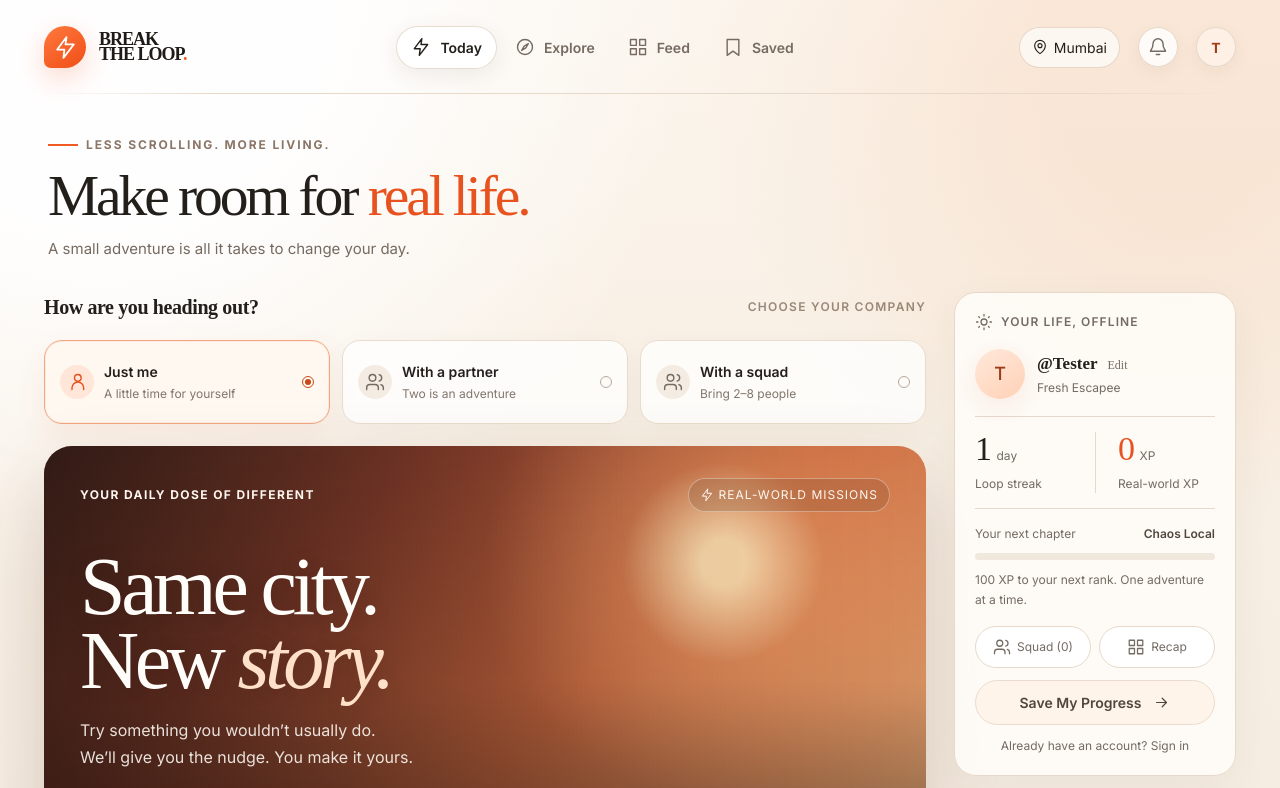
recover account on this device (OTP code, not a magic link) › sends a 6-digit code, then verifies it to recover the linked profile
Click the button "Already have an account? Sign in": click(1095, 740) [975, 724, 1215, 754]
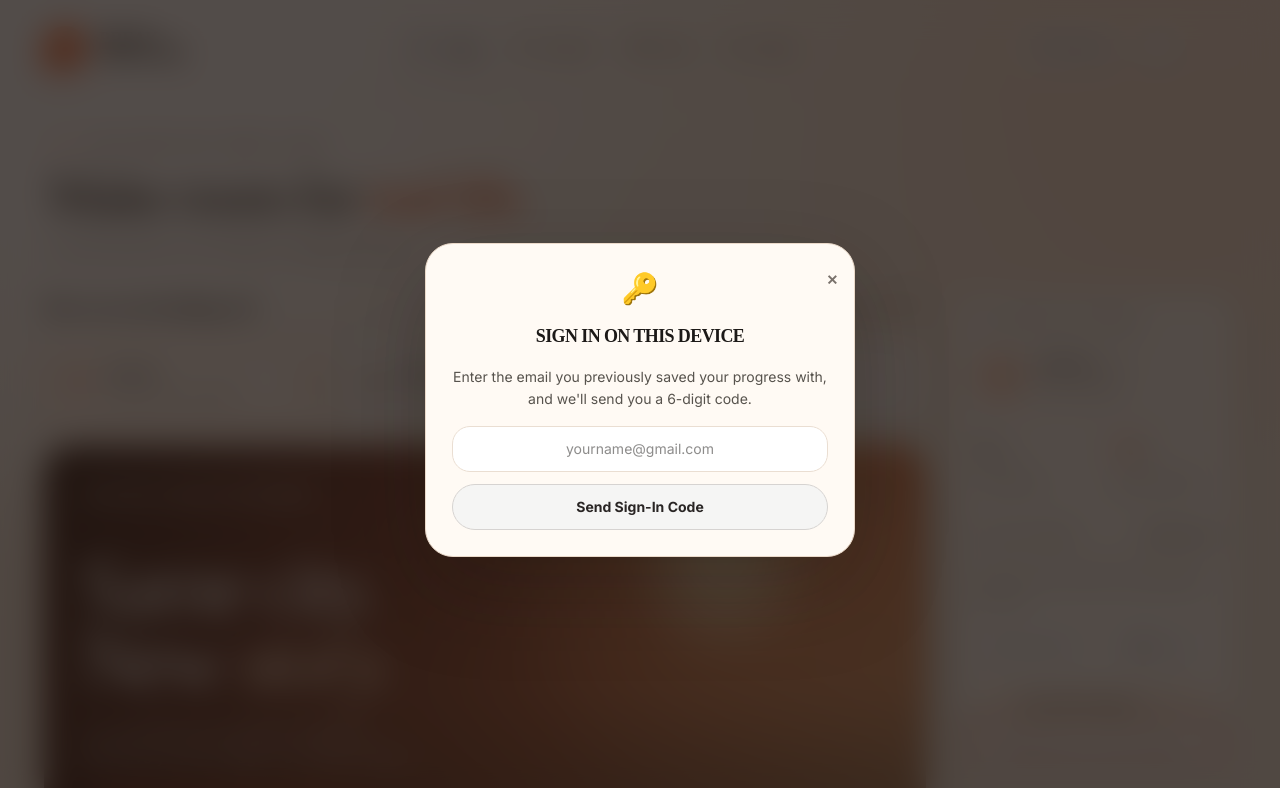
Now the heading "SIGN IN ON THIS DEVICE" is shown, box [536, 326, 744, 346]
In the field with placeholder "yourname@gmail.com": (640, 449) [452, 426, 828, 472], type "returning@example.com"
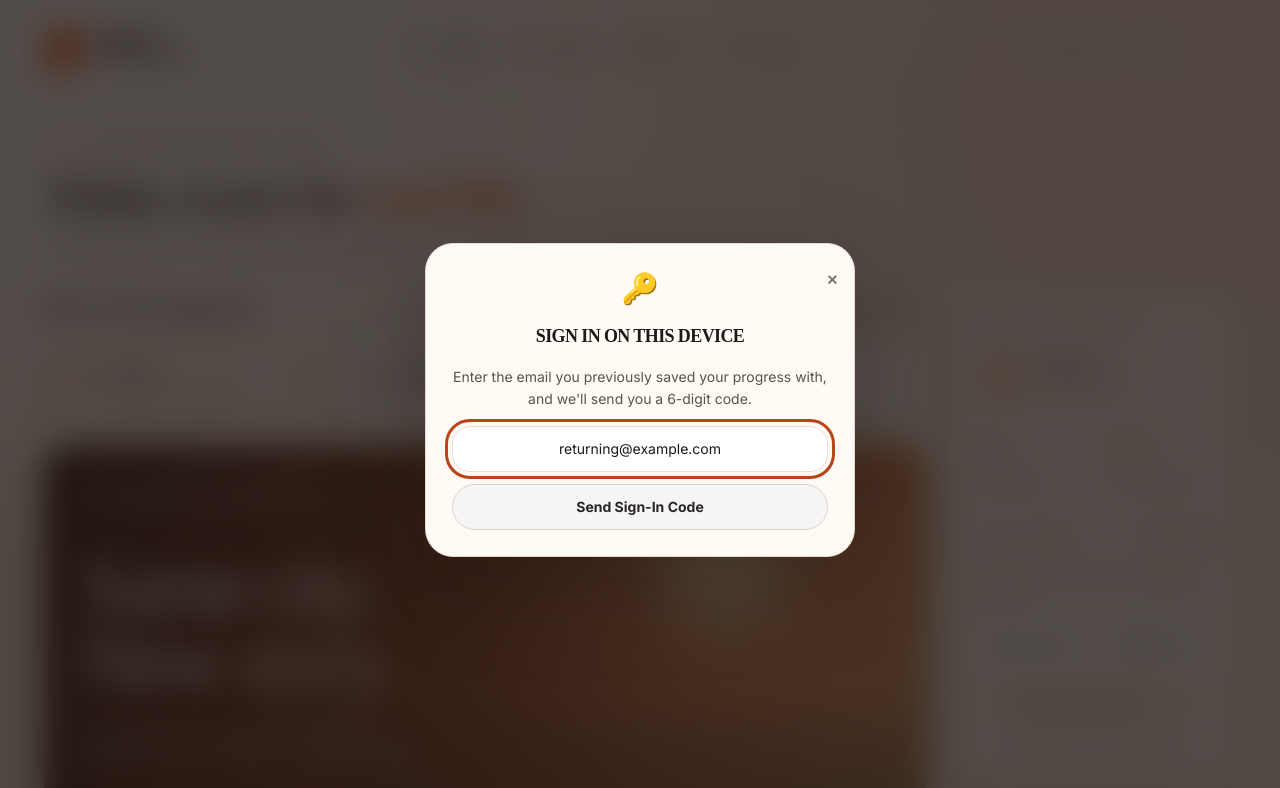
Click the button "Send Sign-In Code": click(640, 507) [452, 484, 828, 530]
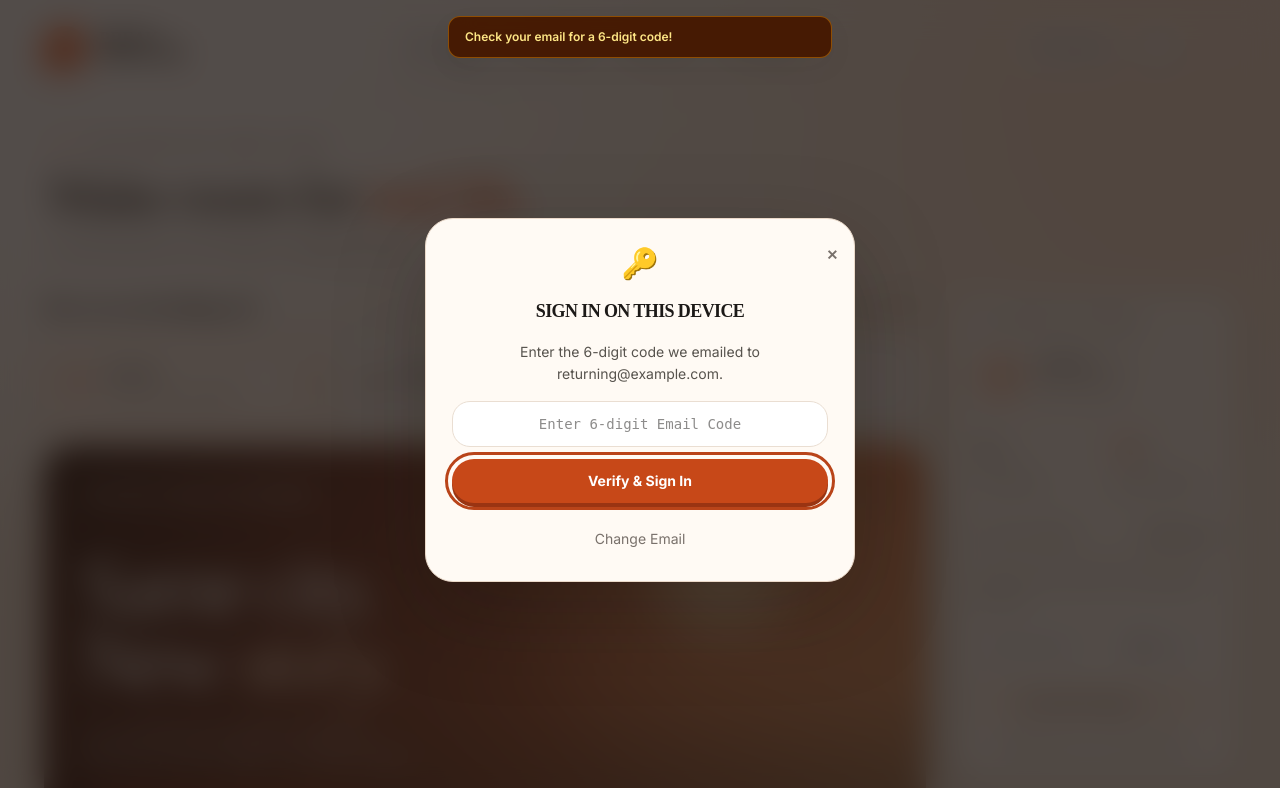
In the field with placeholder "Enter 6-digit Email Code": (640, 424) [452, 401, 828, 447], type "654321"
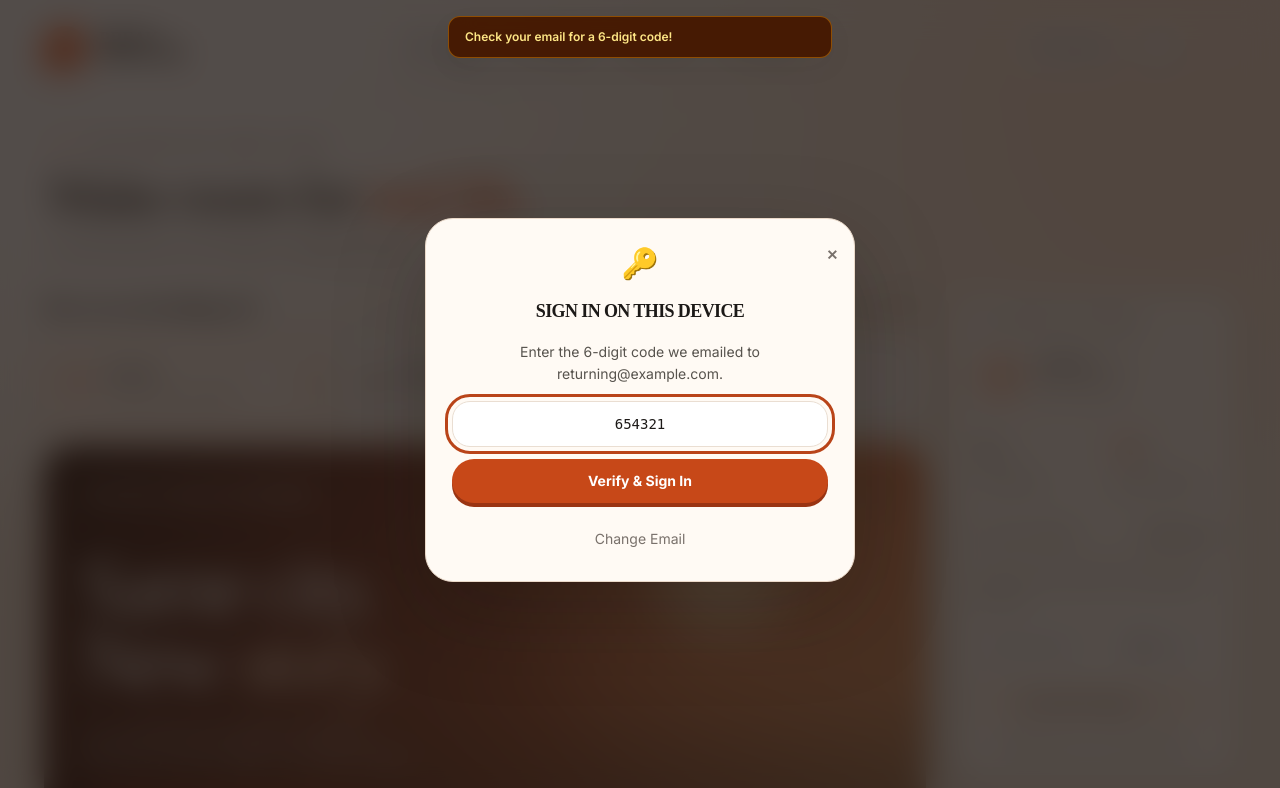
Click the button "Verify & Sign In": click(640, 481) [452, 459, 828, 503]
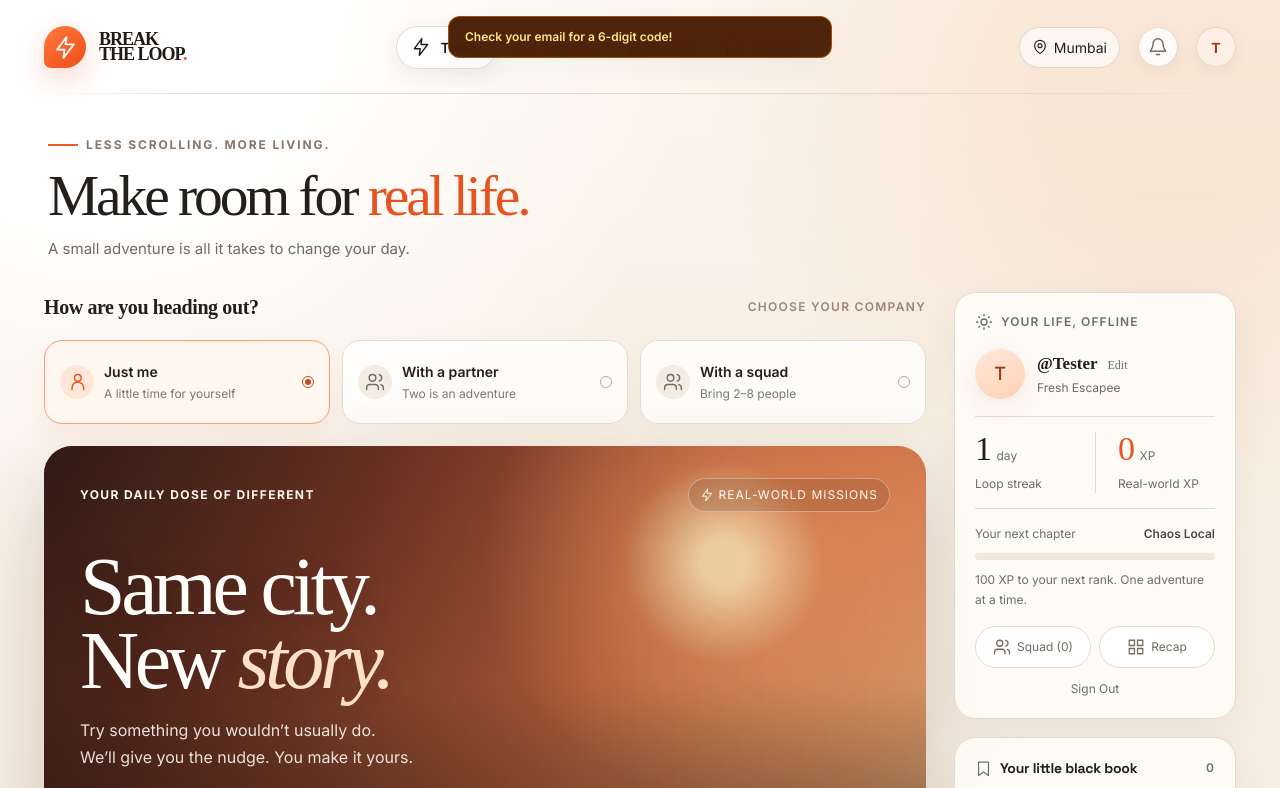
Now the button "Sign Out" is shown, box [975, 668, 1215, 698]
Now the heading "SIGN IN ON THIS DEVICE" is gone
